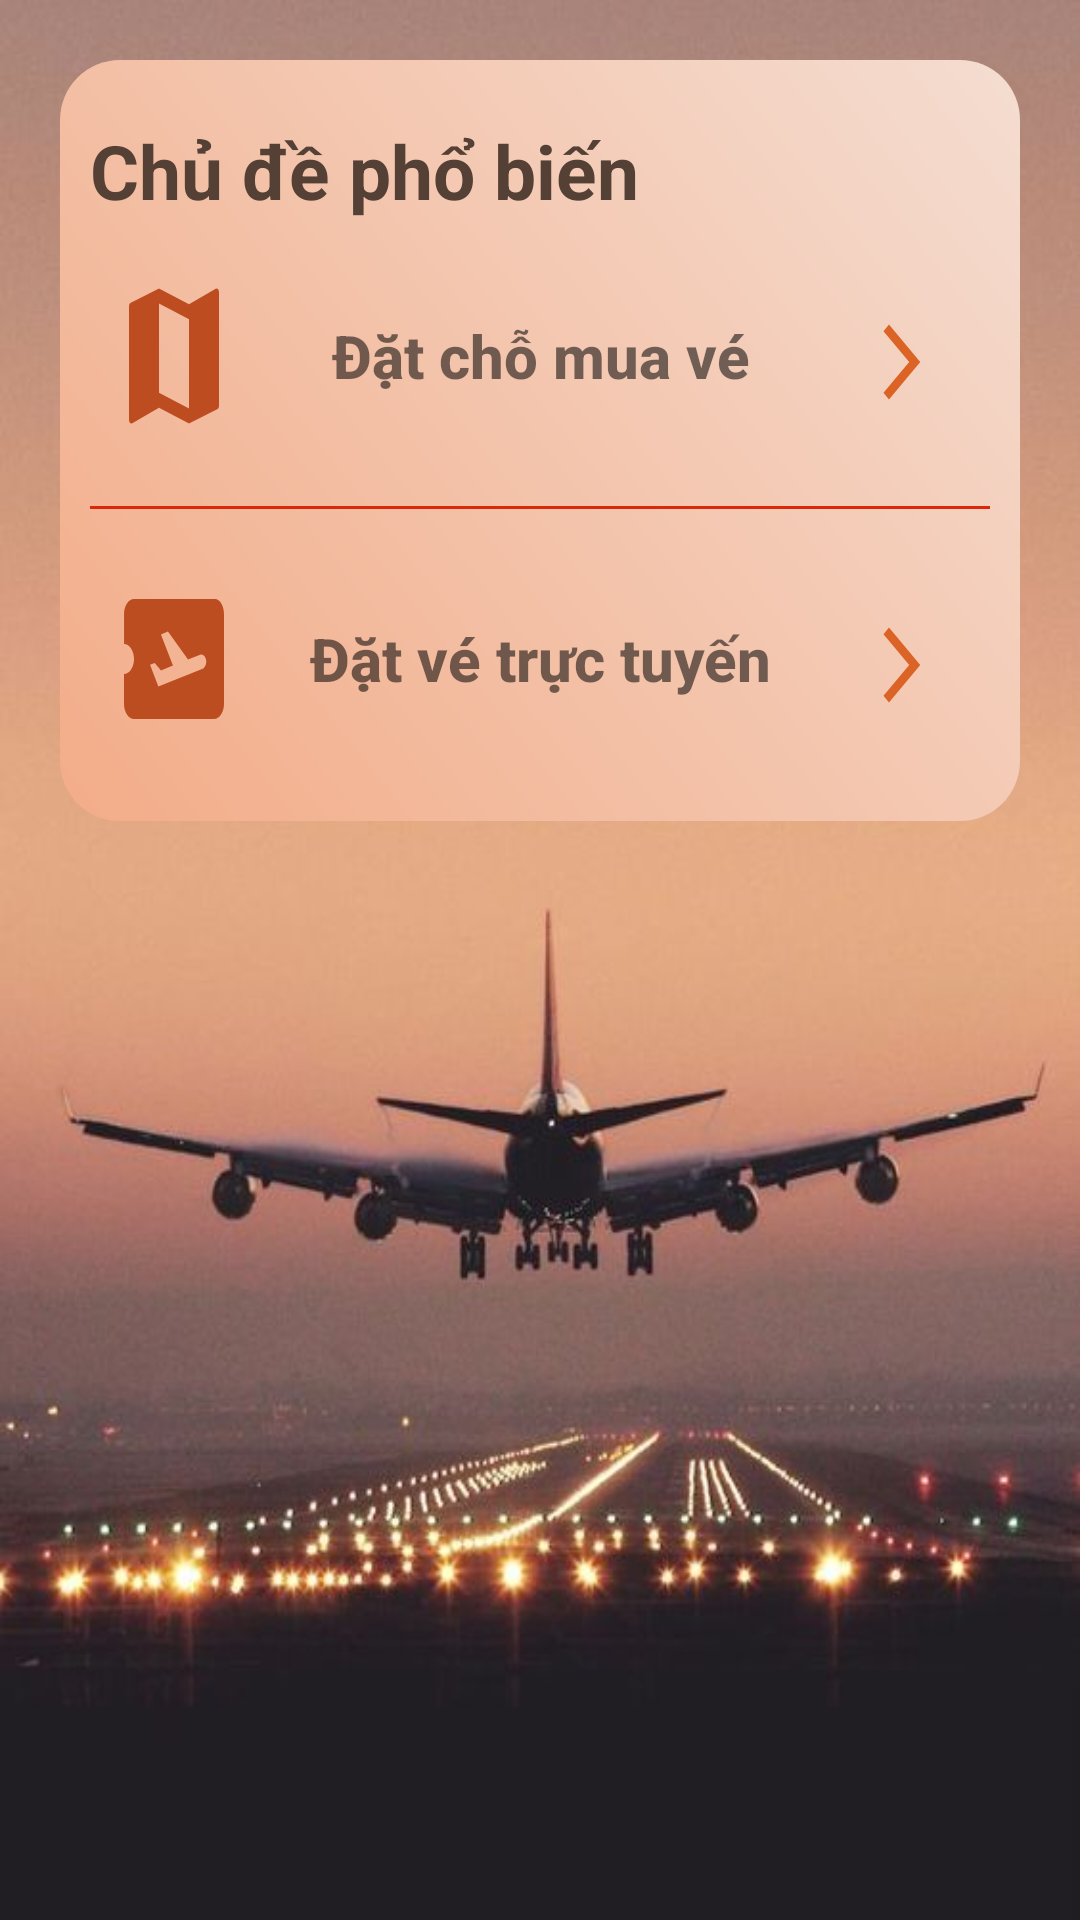

Locate icon controls on the screen. Image size 1080px×1920px, boxes as (x1, y1, x2, y2).
airplane ticket: (124, 599, 224, 719)
arrow quest: (883, 325, 920, 399), (883, 628, 920, 702)
map quest: (129, 288, 219, 424)
